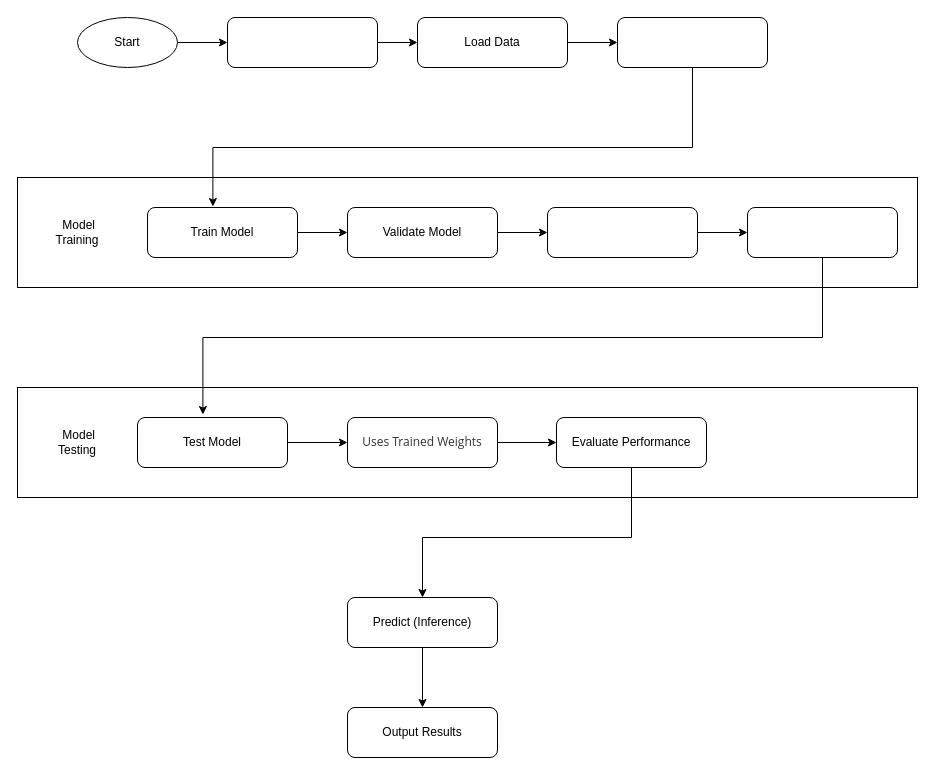
Image size: 935x775. Some labels were removed from this diagram. Each missing label, with the box of its shape:
Preprocessing: (616, 16, 768, 68)
Save Best Weights: (546, 206, 698, 258)
Save Models: (746, 206, 898, 258)
Select Dataset: (226, 16, 378, 68)
